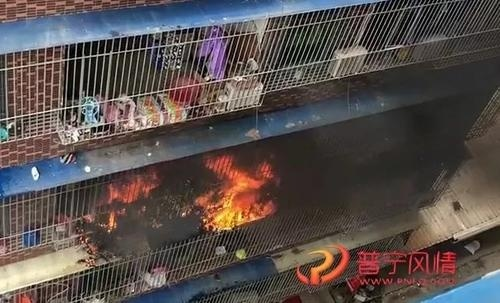fire: (190, 153, 278, 229), (103, 172, 159, 232), (144, 90, 185, 126)
